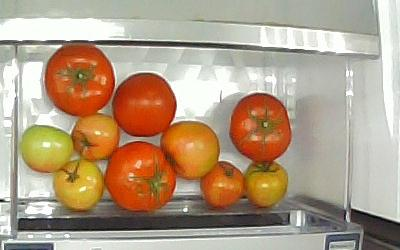tomato: (103, 141, 177, 214), (45, 45, 114, 118), (228, 92, 292, 162), (113, 72, 177, 139), (160, 120, 221, 181), (20, 123, 74, 175), (53, 160, 104, 212), (72, 113, 121, 162), (199, 161, 246, 211), (244, 160, 289, 210)
